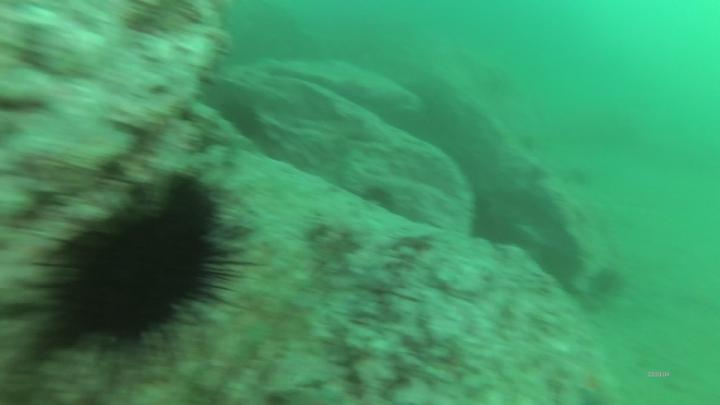echinus: (24, 168, 252, 380), (214, 99, 266, 141), (589, 267, 624, 299), (363, 185, 397, 213), (561, 165, 592, 188), (518, 133, 541, 153)
